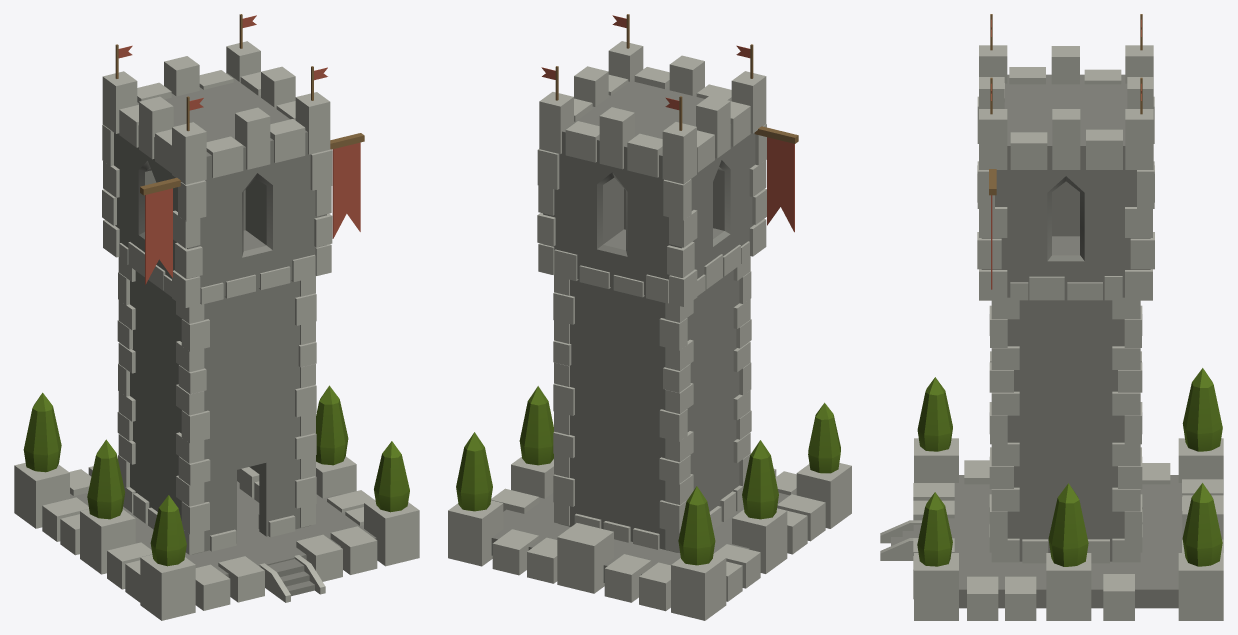
File: tower3.fbx
3 renders of one model, left to right at view 1: azimuth 30°, elevation 25°; view 2: azimuth 150°, elevation 25°; view 3: azimuth 270°, elevation 25°, orthographic. The views are drawn at different scales.
Parts seen in each view (by area): view 1: tower_lv3; view 2: tower_lv3; view 3: tower_lv3.
Boxes of the visible parts, x1,y1,x2,y2 form: tower_lv3: (14, 14, 419, 620); tower_lv3: (448, 14, 851, 620); tower_lv3: (880, 14, 1223, 620).
Bounding box in the file's own units: 7.22 × 12.88 × 7.92.
